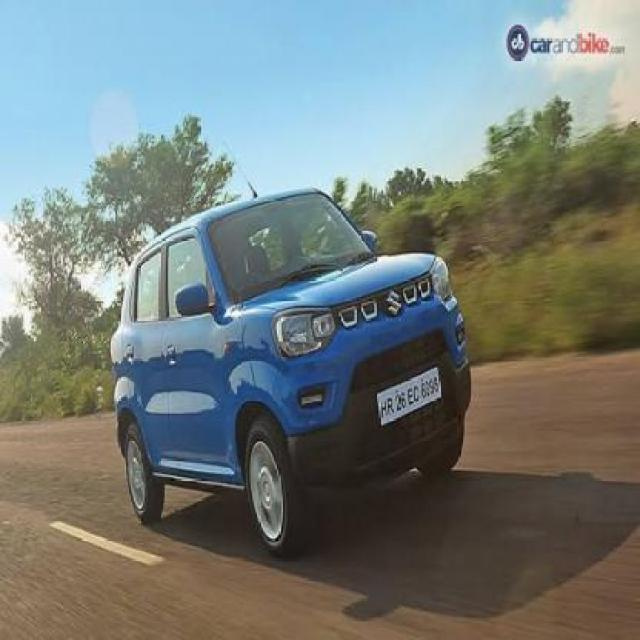vehicle: (101, 137, 492, 555)
